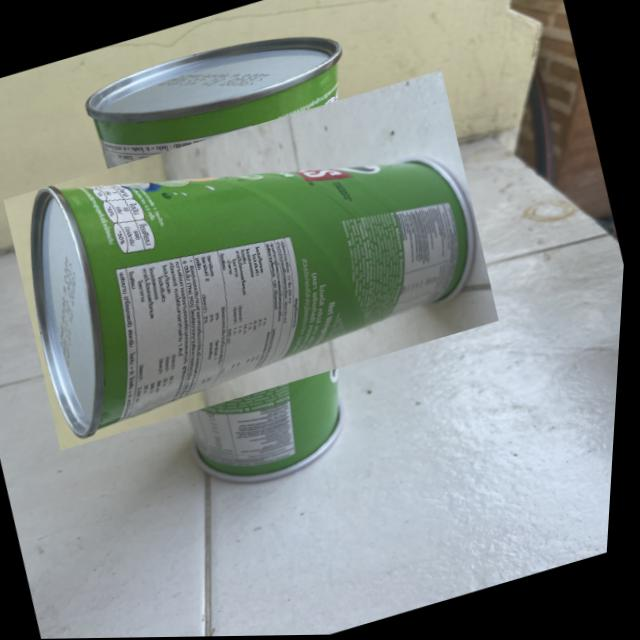a pringles: (25, 38, 484, 483)
